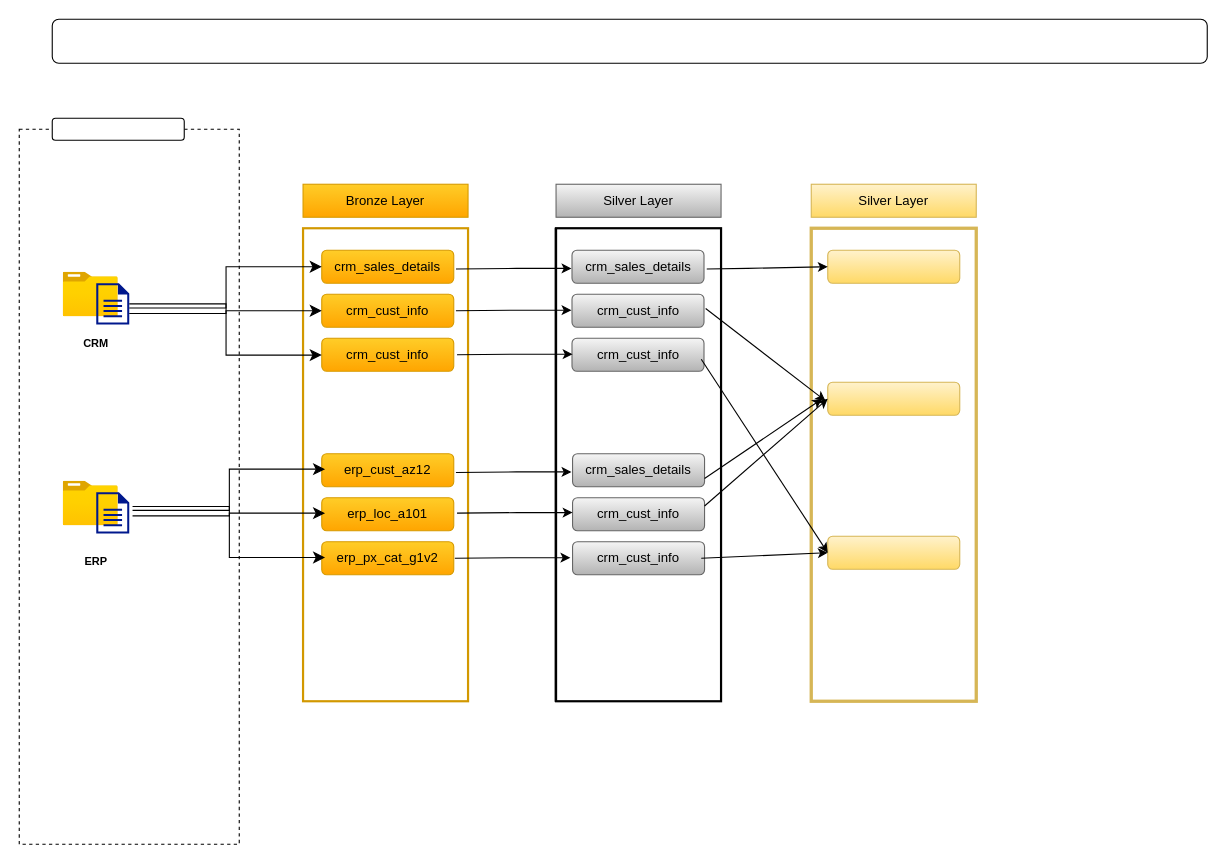
Image size: 1227x864. Some labels were removed from this diagram. Here are the shapes that lost their labels. From the top down, the centre of each, then its label:
At (629,40): "Data Flow ( data Lineage)".
At (117,128): "Sources".
At (893,266): "fact_sales".
At (893,398): "dim_customers".
At (893,552): "dim_products".
